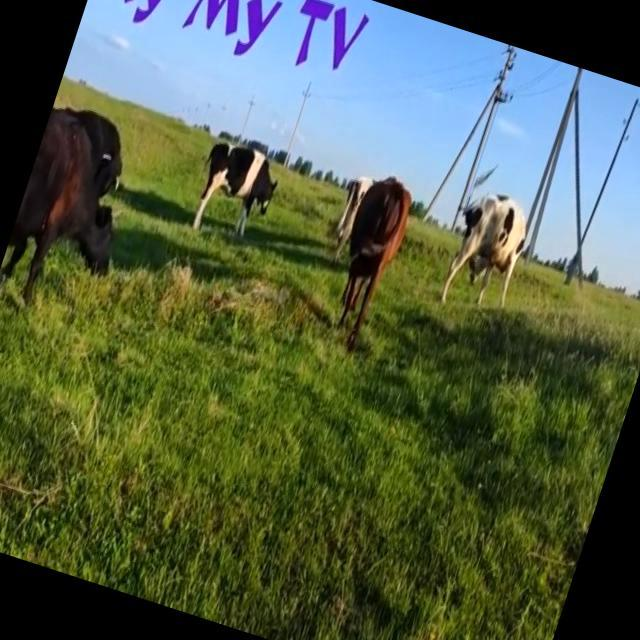COW: (0, 107, 122, 304), (336, 178, 410, 350), (440, 197, 524, 306), (192, 145, 277, 236)
